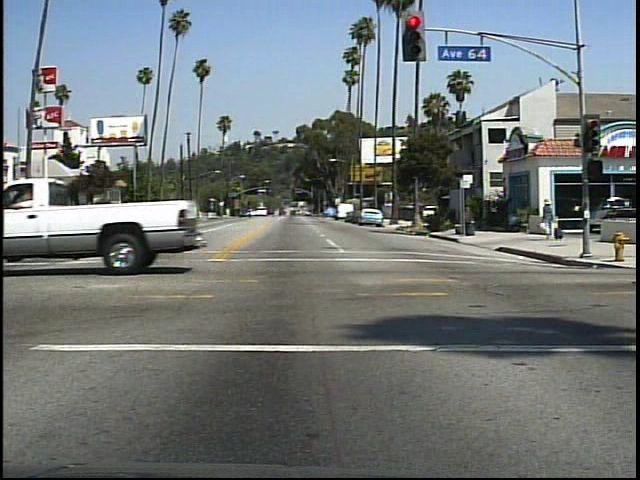person: (537, 194, 564, 244)
